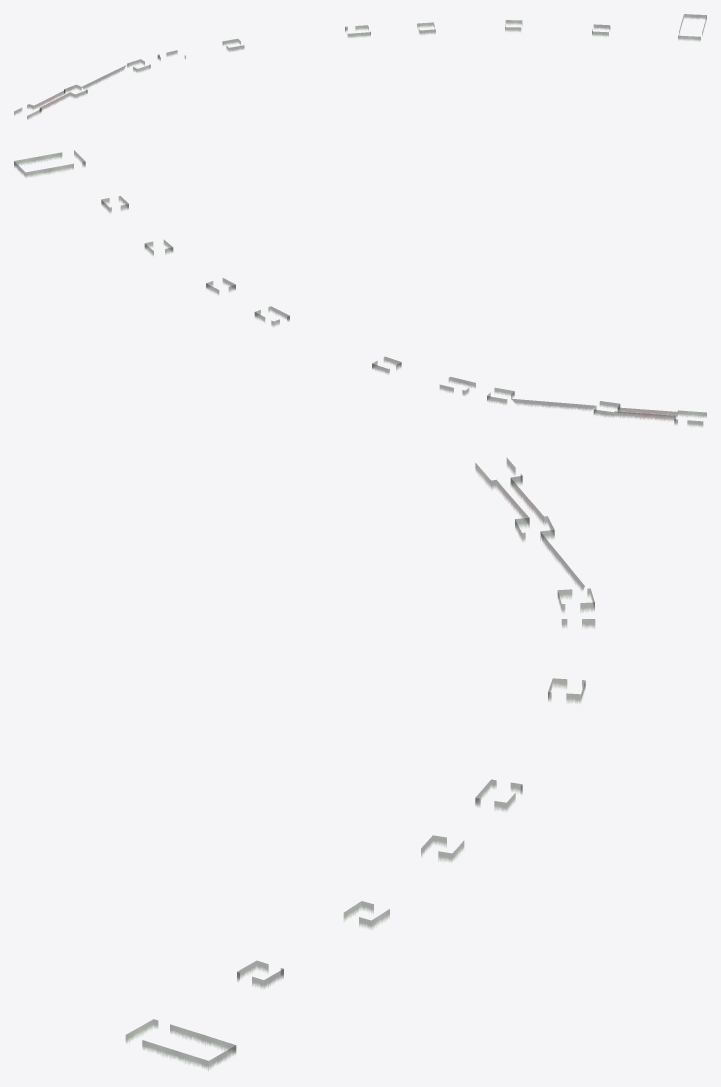
Rendered from Dam_Alpha_57.glb.
3 renders of one model, top to bottom at view 1: azimuth 30°, elevation 25°; view 2: azimuth 150°, elevation 25°; view 3: azimuth 270°, elevation 25°, orthographic. The views are drawn at different scales.
Parts seen in each view (by area): view 1: Dam_Alpha_57; view 2: Dam_Alpha_57; view 3: Dam_Alpha_57.
Part boxes in pixels (bbox=[...]): Dam_Alpha_57: bbox=[14, 14, 706, 119]; Dam_Alpha_57: bbox=[14, 150, 706, 426]; Dam_Alpha_57: bbox=[126, 458, 594, 1069].
Bounding box in the file's own units: 601 × 5.5 × 197.
Materials: 1 (1 with a texture image).
